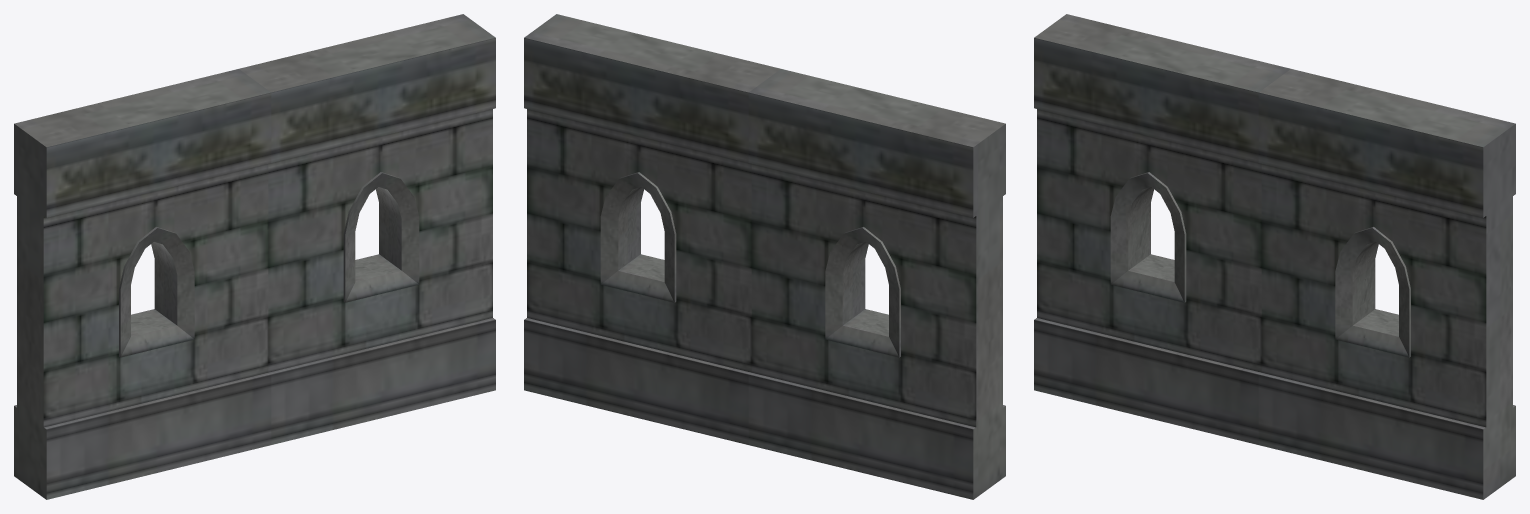
File: sd_wall_large_03.glb
The picture shows the model from 3 angles, left to right: view 1: azimuth 30°, elevation 25°; view 2: azimuth 150°, elevation 25°; view 3: azimuth 330°, elevation 25°; orthographic projection.
Visible parts, largest first — view 1: wall_large_03; view 2: wall_large_03; view 3: wall_large_03.
Boxes of the visible parts, x1,y1,x2,y2 form: wall_large_03: [14, 14, 495, 499]; wall_large_03: [524, 14, 1005, 499]; wall_large_03: [1034, 14, 1515, 499].
Size of the model in its own units: 4 by 3 by 0.5.
Materials: 1 (1 with a texture image).
